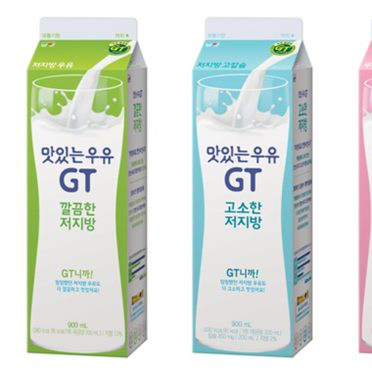milk: (190, 16, 313, 357), (27, 16, 148, 356)
